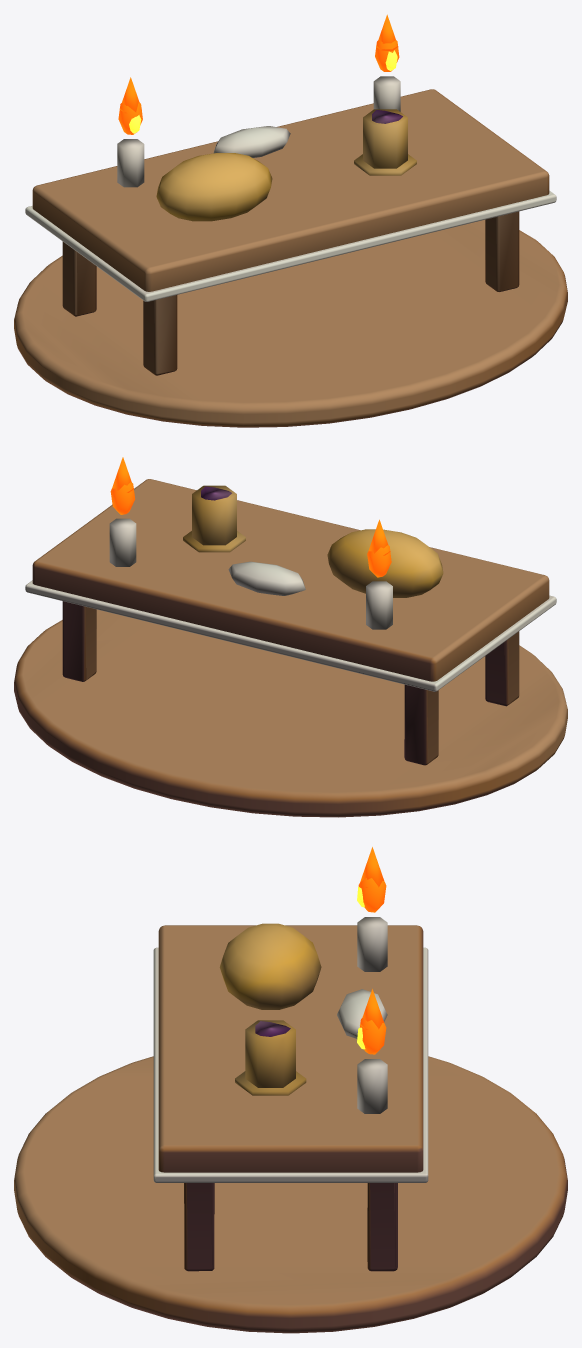
The model's file is supper.glb.
3 renders of one model, top to bottom at view 1: azimuth 30°, elevation 25°; view 2: azimuth 150°, elevation 25°; view 3: azimuth 270°, elevation 25°, orthographic. The views are drawn at different scales.
Visible parts, largest first — view 1: supper; view 2: supper; view 3: supper.
Boxes of the visible parts, left/top/right/bottom form: supper: left=14, top=14, right=567, bottom=427; supper: left=14, top=457, right=567, bottom=817; supper: left=14, top=847, right=567, bottom=1333.
Size of the model in its own units: 6.4 by 3.08 by 5.44.
